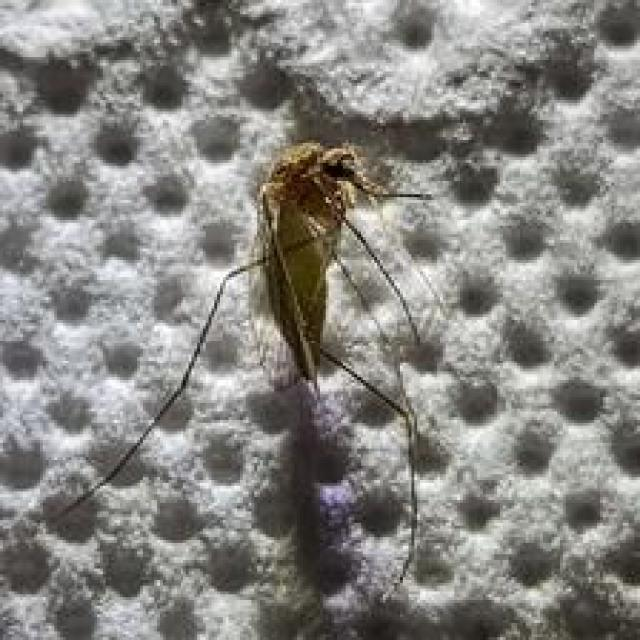Culex: (44, 137, 439, 600)
